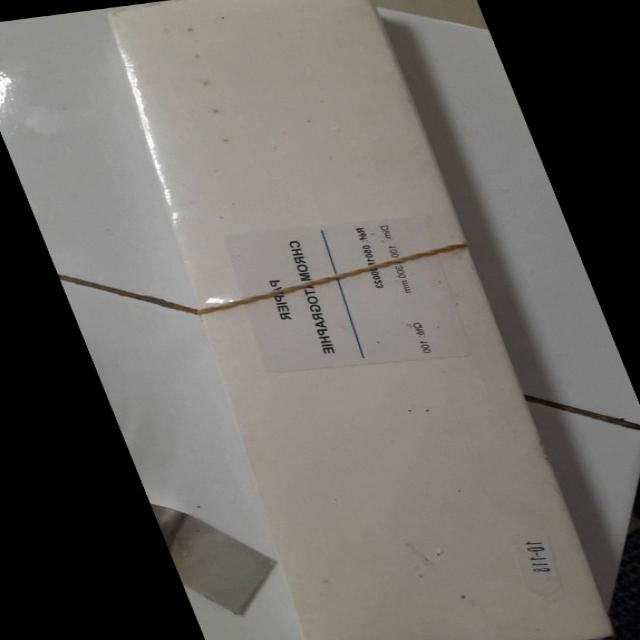Paper Chromatography: (72, 0, 618, 640)
